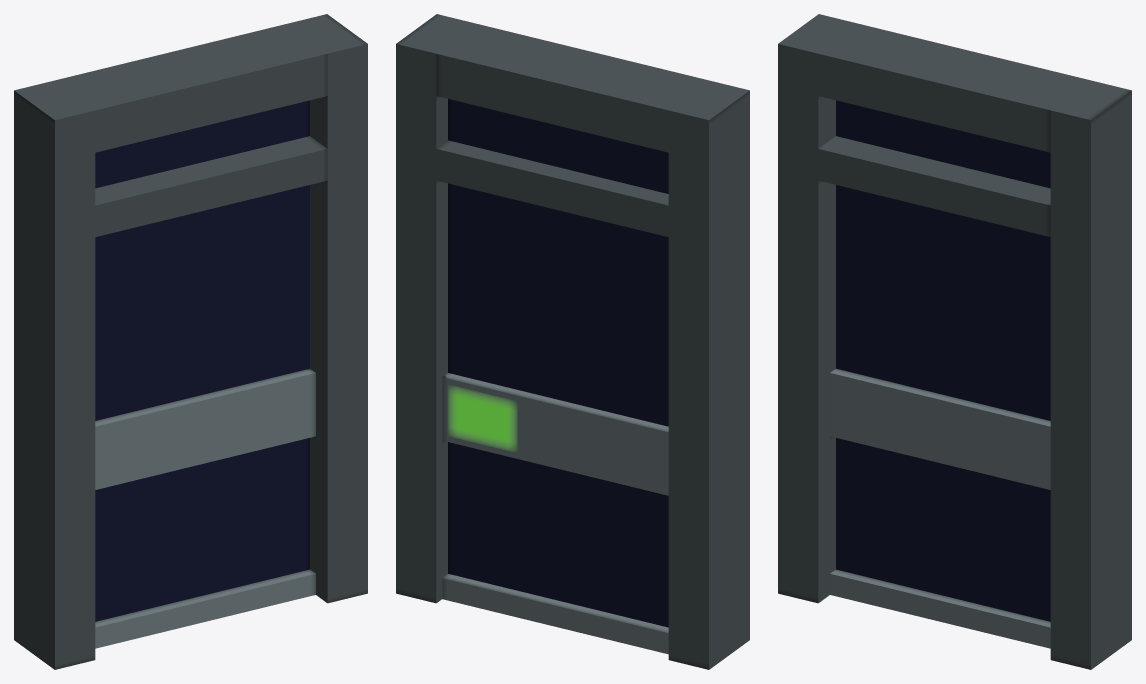
File: dzw_1_arcade.dae
3 renders of one model, left to right at view 1: azimuth 30°, elevation 25°; view 2: azimuth 150°, elevation 25°; view 3: azimuth 330°, elevation 25°, orthographic.
Parts seen in each view (by area): view 1: Content; view 2: Content; view 3: Content.
Part boxes in pixels (box(x1,y1,x2,y2)): Content: box(14, 14, 367, 669); Content: box(396, 14, 749, 669); Content: box(778, 14, 1131, 669).
Size of the model in its own units: 31 by 52 by 7.
1 material, 1 textured.
